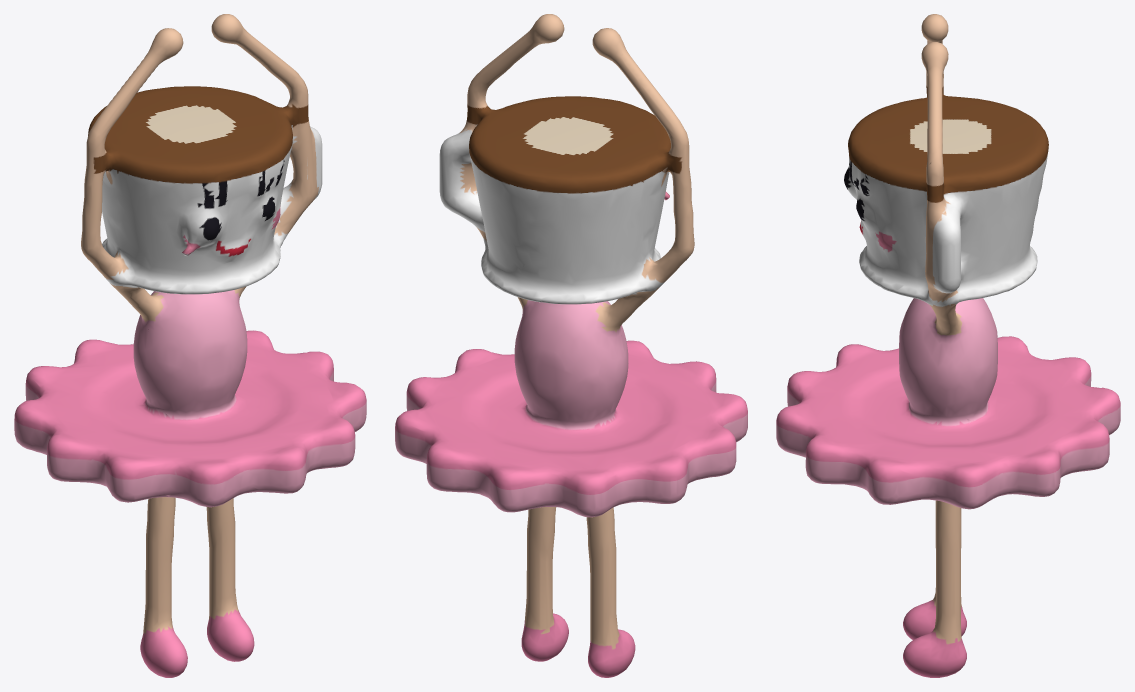
File: SM_Ballerina_Cappuccina.fbx
3 renders of one model, left to right at view 1: azimuth 30°, elevation 25°; view 2: azimuth 150°, elevation 25°; view 3: azimuth 270°, elevation 25°, orthographic. The views are drawn at different scales.
Parts seen in each view (by area): view 1: Ballerina_Cappuccina; view 2: Ballerina_Cappuccina; view 3: Ballerina_Cappuccina.
Boxes of the visible parts, x1,y1,x2,y2 form: Ballerina_Cappuccina: (14, 14, 366, 677); Ballerina_Cappuccina: (395, 14, 747, 677); Ballerina_Cappuccina: (776, 14, 1120, 677).
Bounding box in the file's own units: 0.7673 × 1.55 × 0.7673.
Materials: 1 (1 with a texture image).
